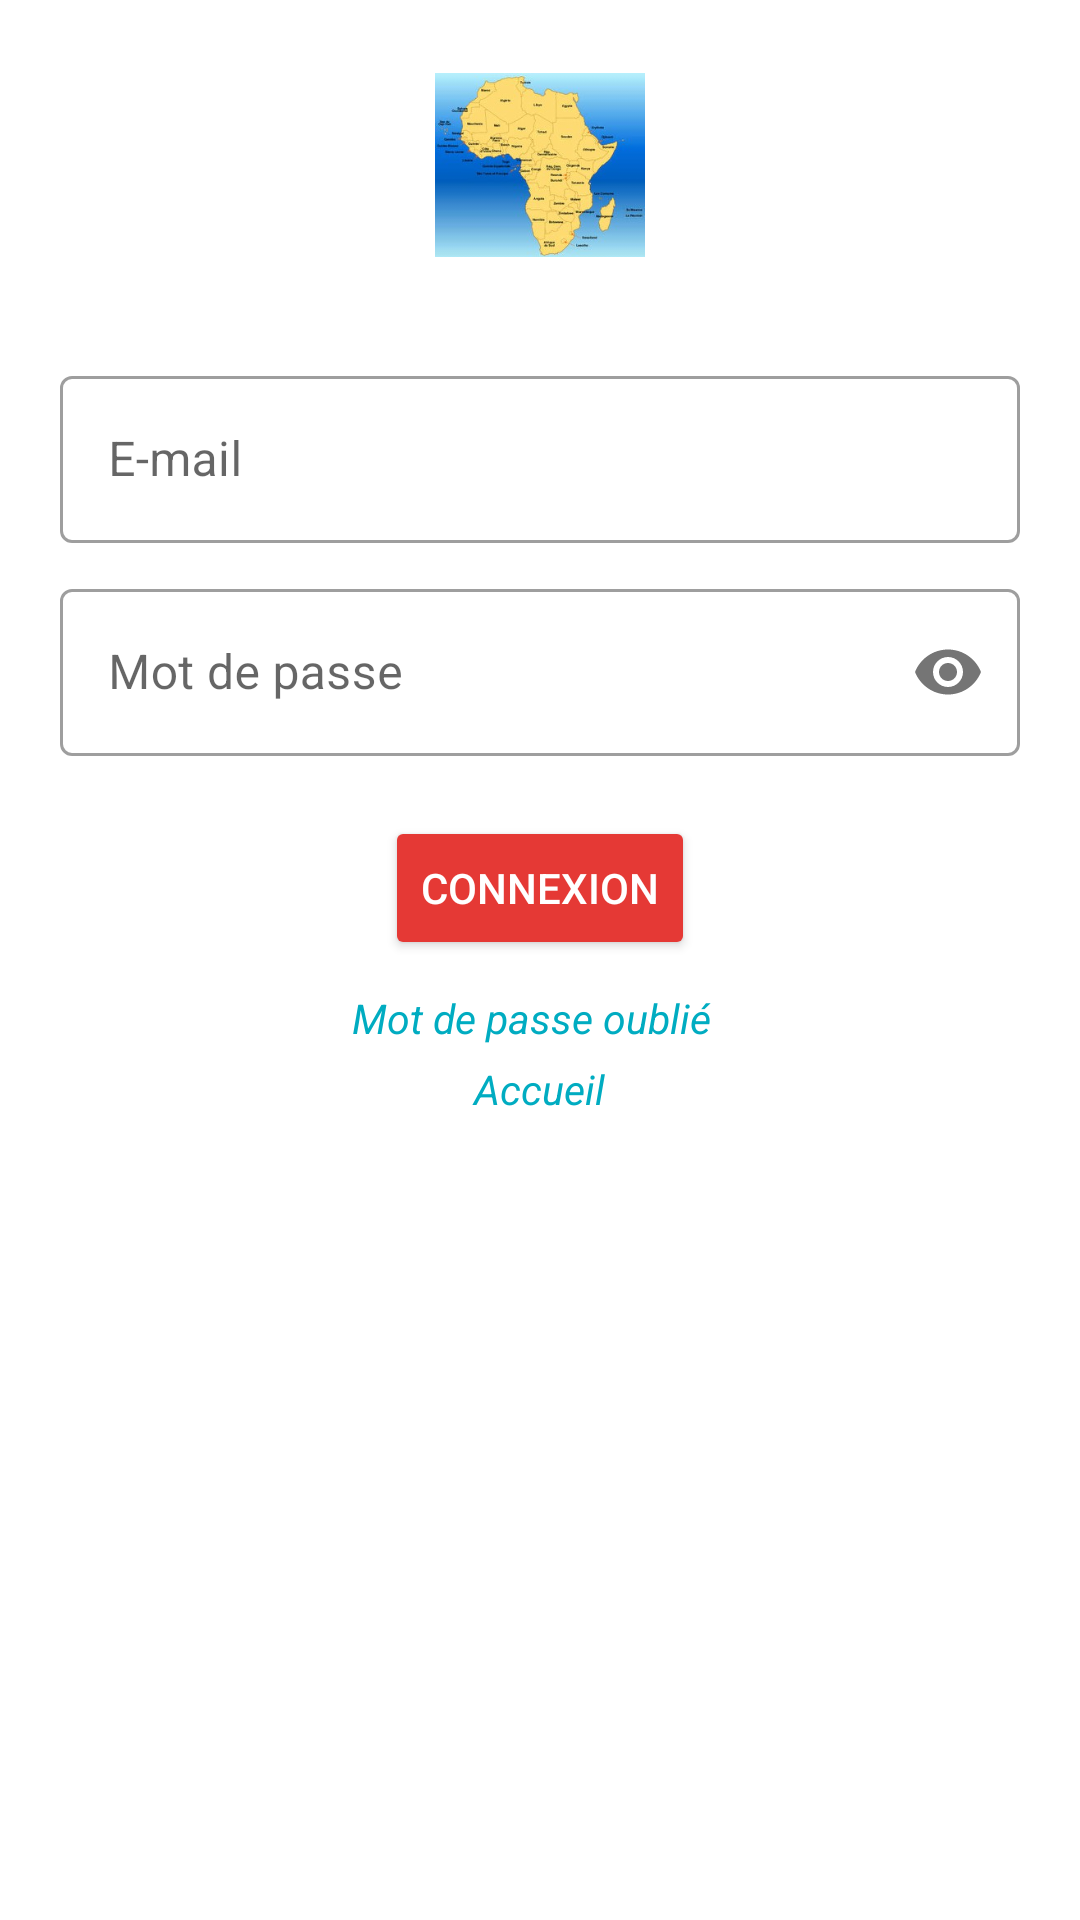

Icon bounding boxes for this 1080*1920 phone screenshot, format detection(x1, y1, x2, y2):
carte: detection(435, 73, 645, 257)
